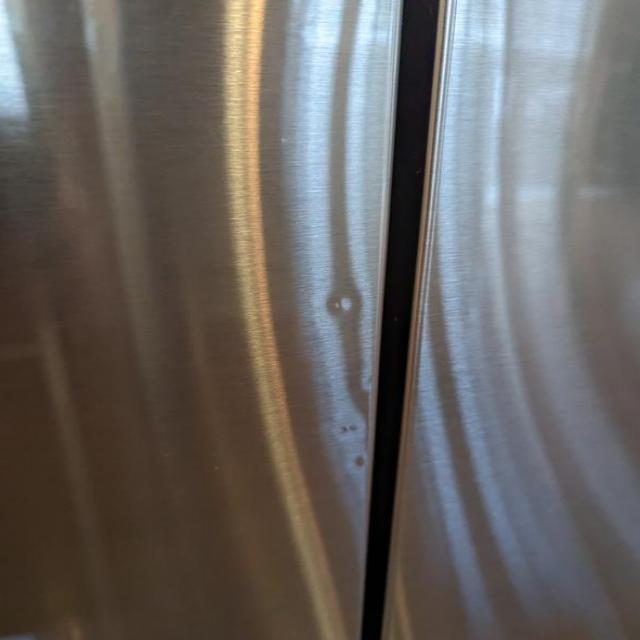dents: (304, 282, 376, 322)
